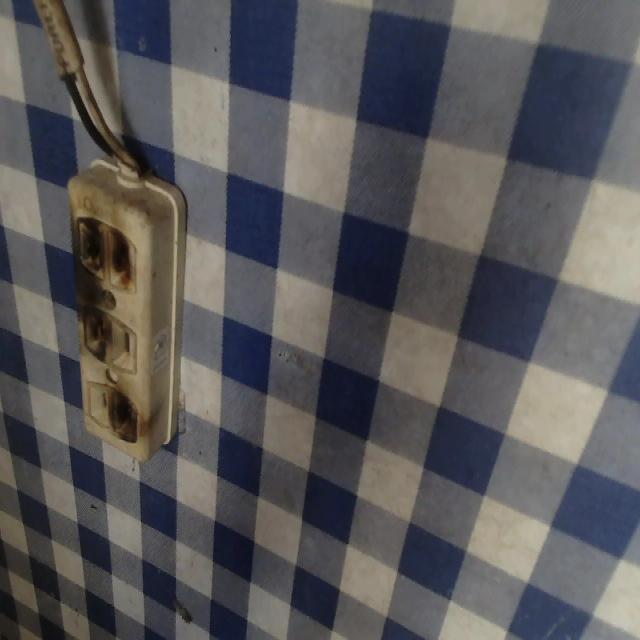-: (72, 210, 137, 294), (77, 301, 113, 360), (106, 390, 137, 446)
